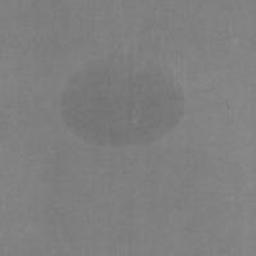Oil spot: (62, 54, 183, 145)
